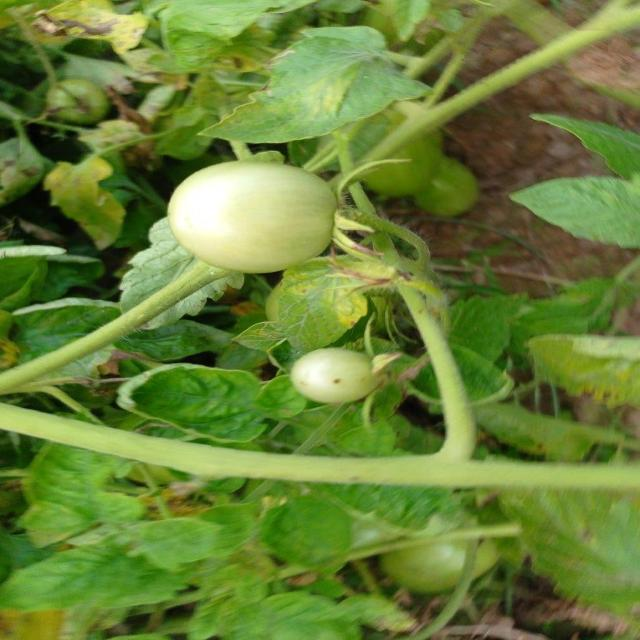Unripe: (168, 160, 334, 273)
